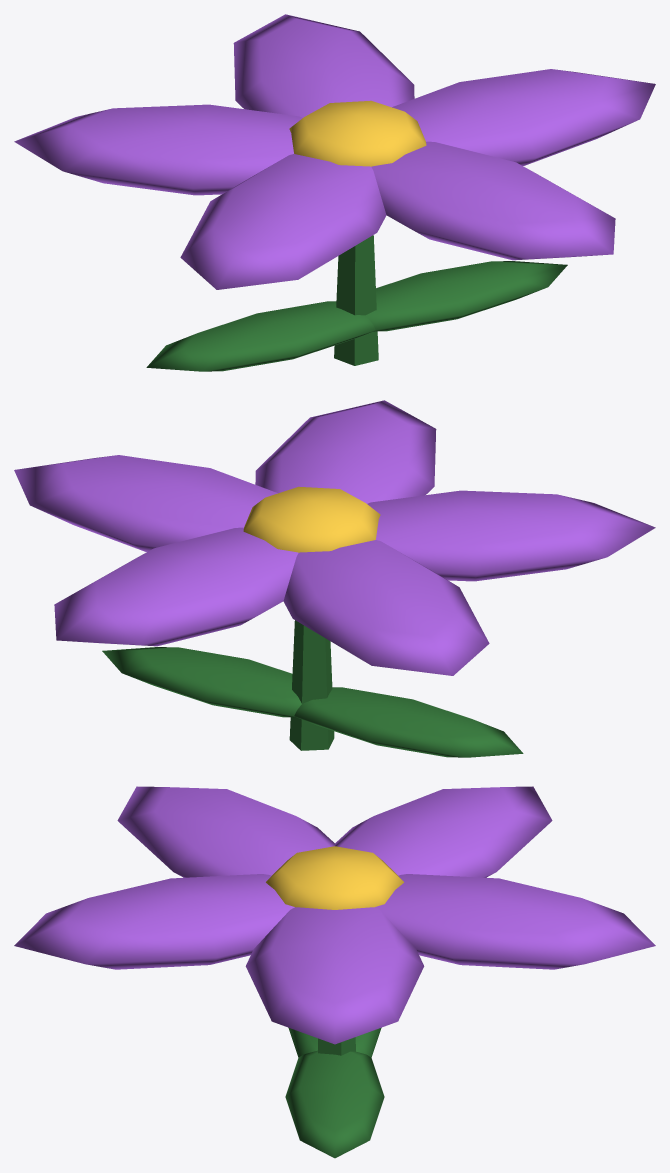
The model's file is flower-single-purple.glb.
3 views of the same model, one above another, from view 1: azimuth 30°, elevation 25°; view 2: azimuth 150°, elevation 25°; view 3: azimuth 270°, elevation 25° (orthographic). The views are drawn at different scales.
Visible parts, largest first — view 1: flower-single-purple; view 2: flower-single-purple; view 3: flower-single-purple.
Part boxes in pixels (left/top/right/bottom): flower-single-purple: left=14, top=14, right=655, bottom=371; flower-single-purple: left=14, top=400, right=655, bottom=757; flower-single-purple: left=14, top=786, right=655, bottom=1158.
Size of the model in its own units: 0.9226 by 0.3933 by 0.9701.
